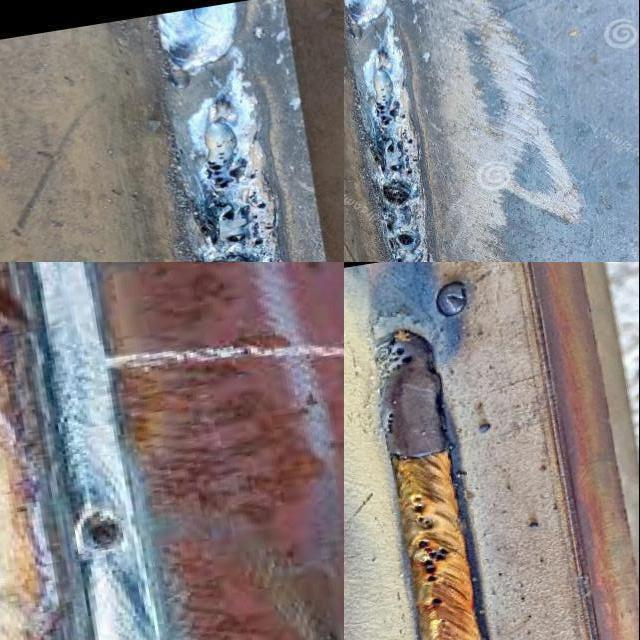defect: (367, 82, 421, 177), (70, 505, 136, 557), (204, 136, 260, 193), (379, 220, 433, 262), (418, 538, 460, 589), (382, 345, 416, 378), (381, 179, 415, 209), (410, 494, 436, 532), (192, 218, 223, 249), (381, 404, 402, 436), (211, 198, 239, 221), (209, 253, 258, 262), (429, 593, 446, 609), (226, 235, 249, 244), (247, 190, 260, 201), (264, 224, 278, 232), (257, 201, 269, 210), (254, 238, 266, 246), (250, 214, 263, 221)
